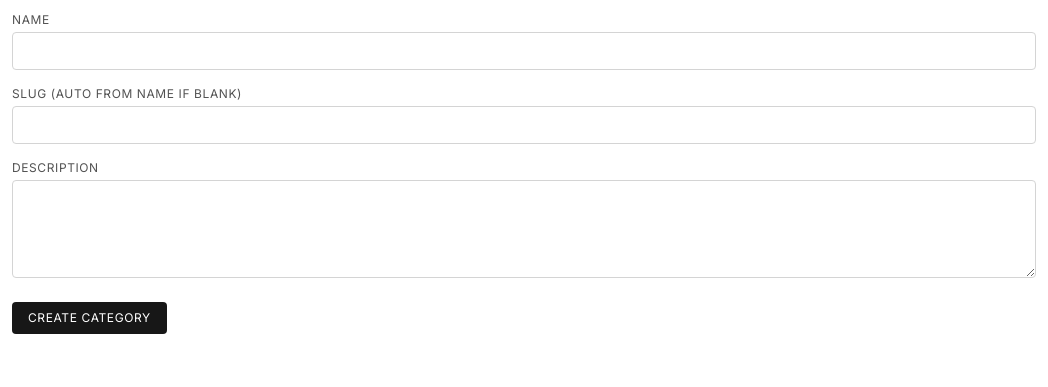
Test case: <CategoryCreateForm> › shows error message when POST fails
This screenshot has width=1048, height=387.
Type "X" into the field labelled "Name" at [524, 51], box [12, 32, 1036, 70]
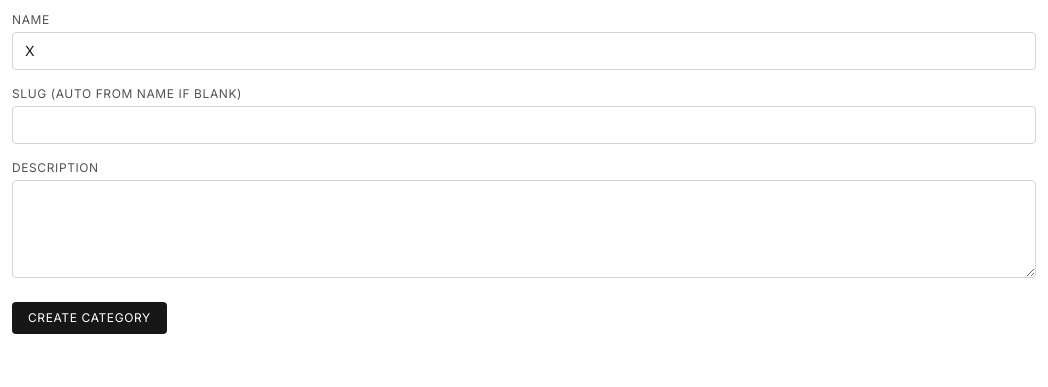
Click the button "Create category" at [89, 318], box [12, 302, 167, 334]
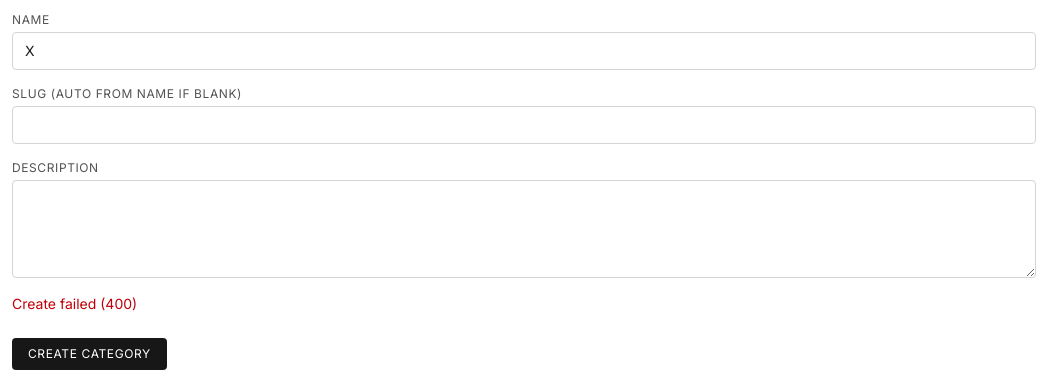
Expected: the text "Create failed (400)" is shown, [12, 295, 137, 312]
